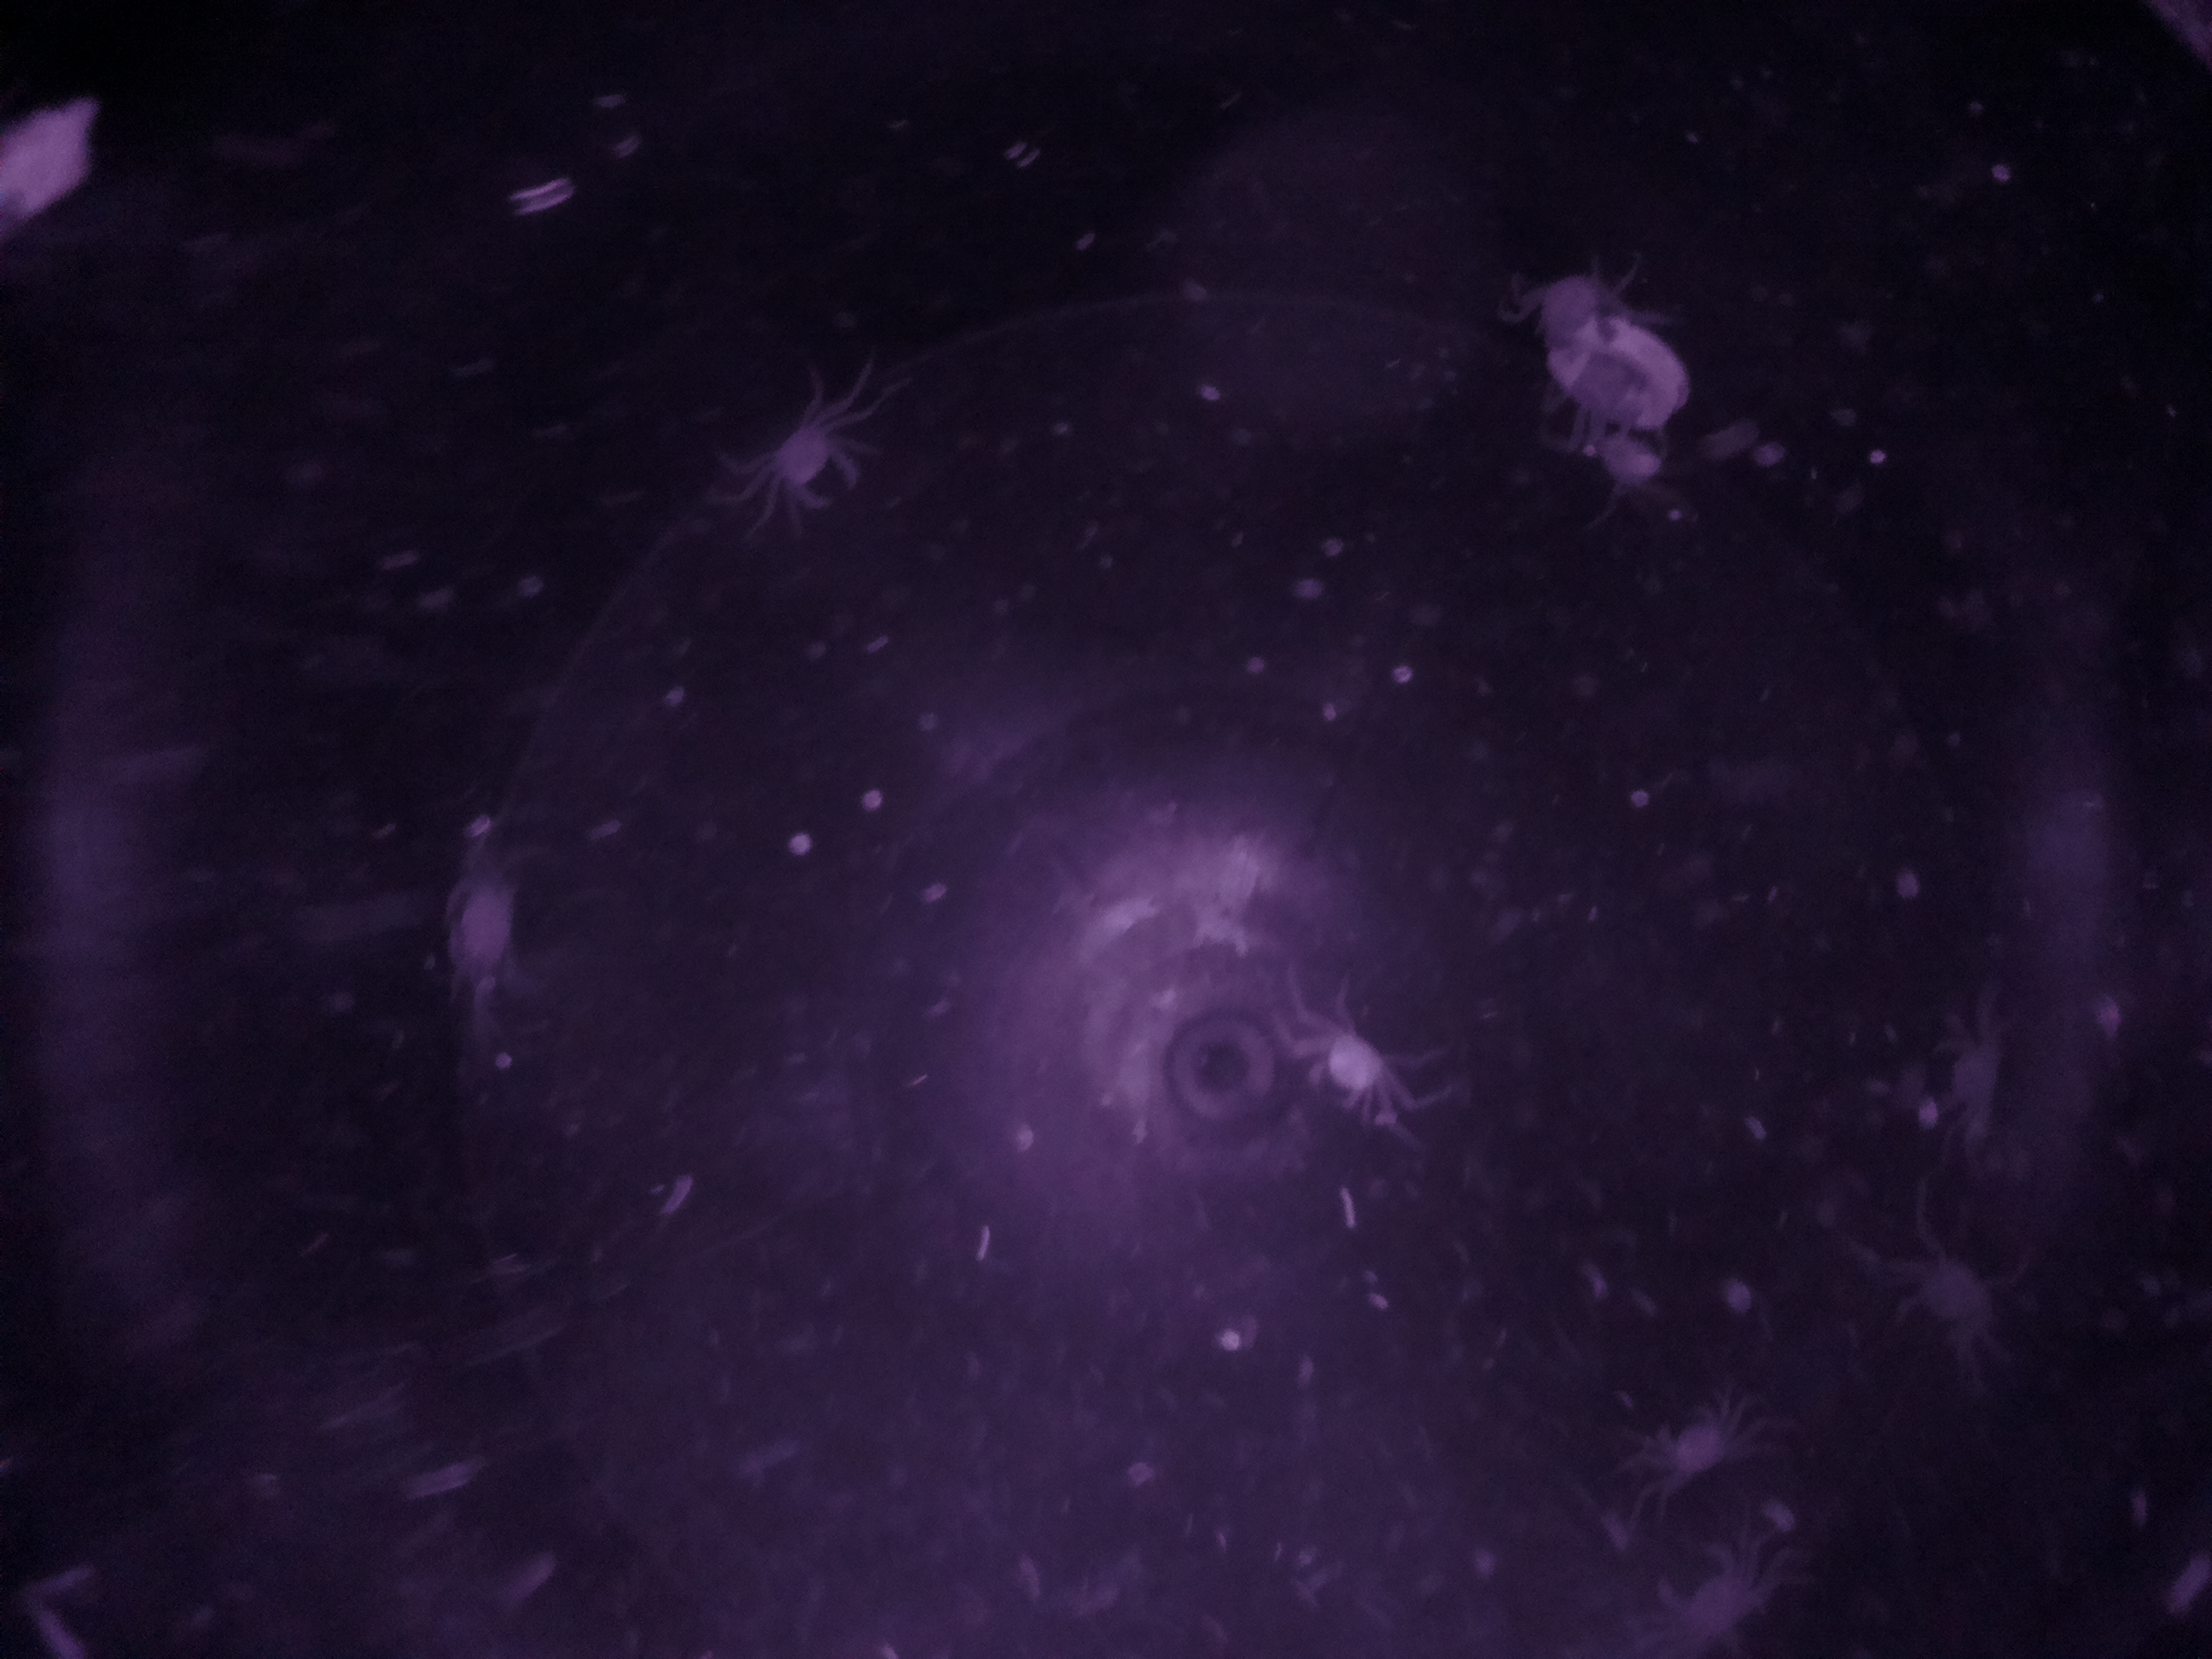Crab: (1637, 1530, 1803, 1645), (737, 396, 874, 523), (421, 854, 538, 995), (1632, 1385, 1766, 1499), (1512, 249, 1641, 362), (1296, 995, 1400, 1129)
